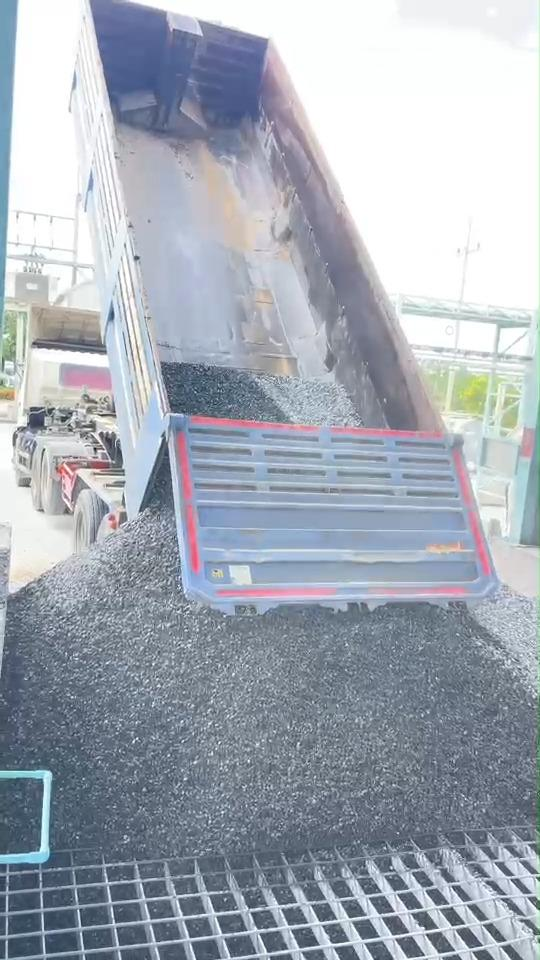gravel: (0, 477, 535, 855), (163, 363, 361, 425), (475, 586, 538, 693), (0, 778, 42, 856), (243, 382, 283, 418), (197, 392, 239, 415), (208, 370, 222, 396), (294, 410, 304, 418), (228, 378, 233, 392), (314, 410, 320, 418)
